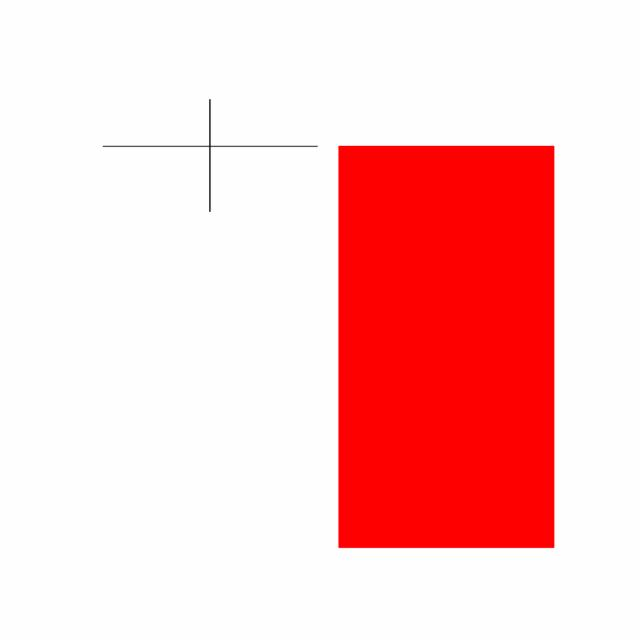Marubozu: (327, 141, 565, 551)
